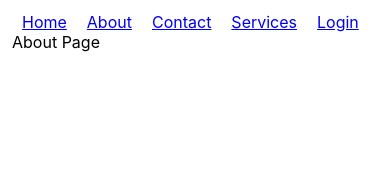
Test: Testing routing Application › App component should › contact link
Click the link "Contact" at (182,22), box [152,12,211,32]
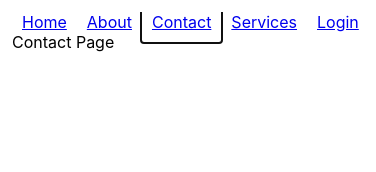
Expected: the text "Contact Page" is shown, [12,32,114,52]
